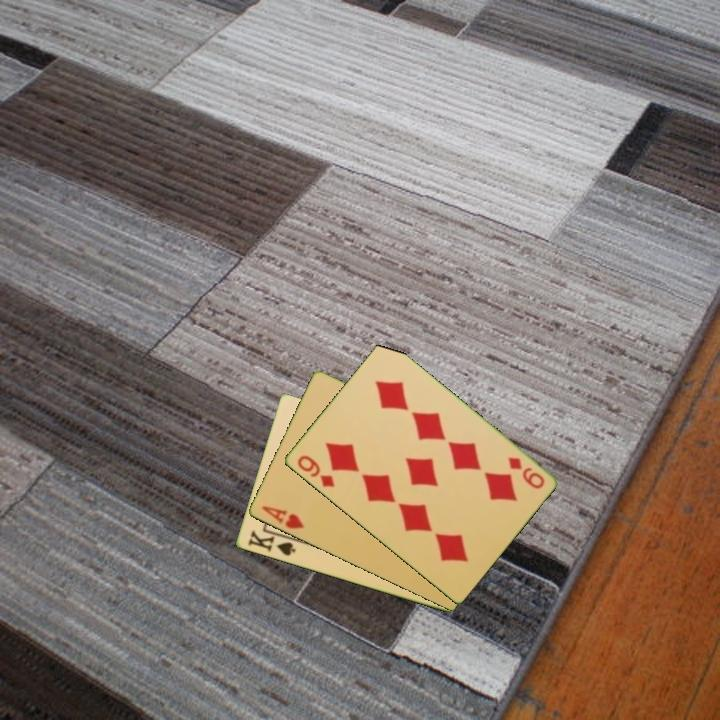9d: (293, 451, 338, 491), (504, 453, 547, 492)
Ah: (258, 502, 307, 532)
Ks: (244, 527, 300, 559)
